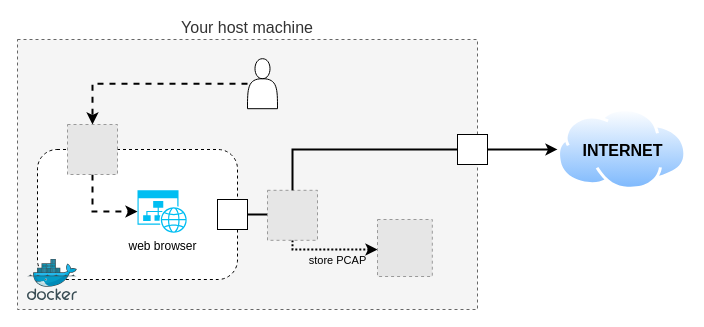
The diagram is 704 pixels wide and 327 high, and some of its shapes have lost their labels. Grey dashed boxes stand in for pictures. The shapes that lost their labels are listed below. From the top down, each one's centre as x and y in pixels, then its label:
At (x=472, y=149): "wlan0".
At (x=232, y=214): "veth".
